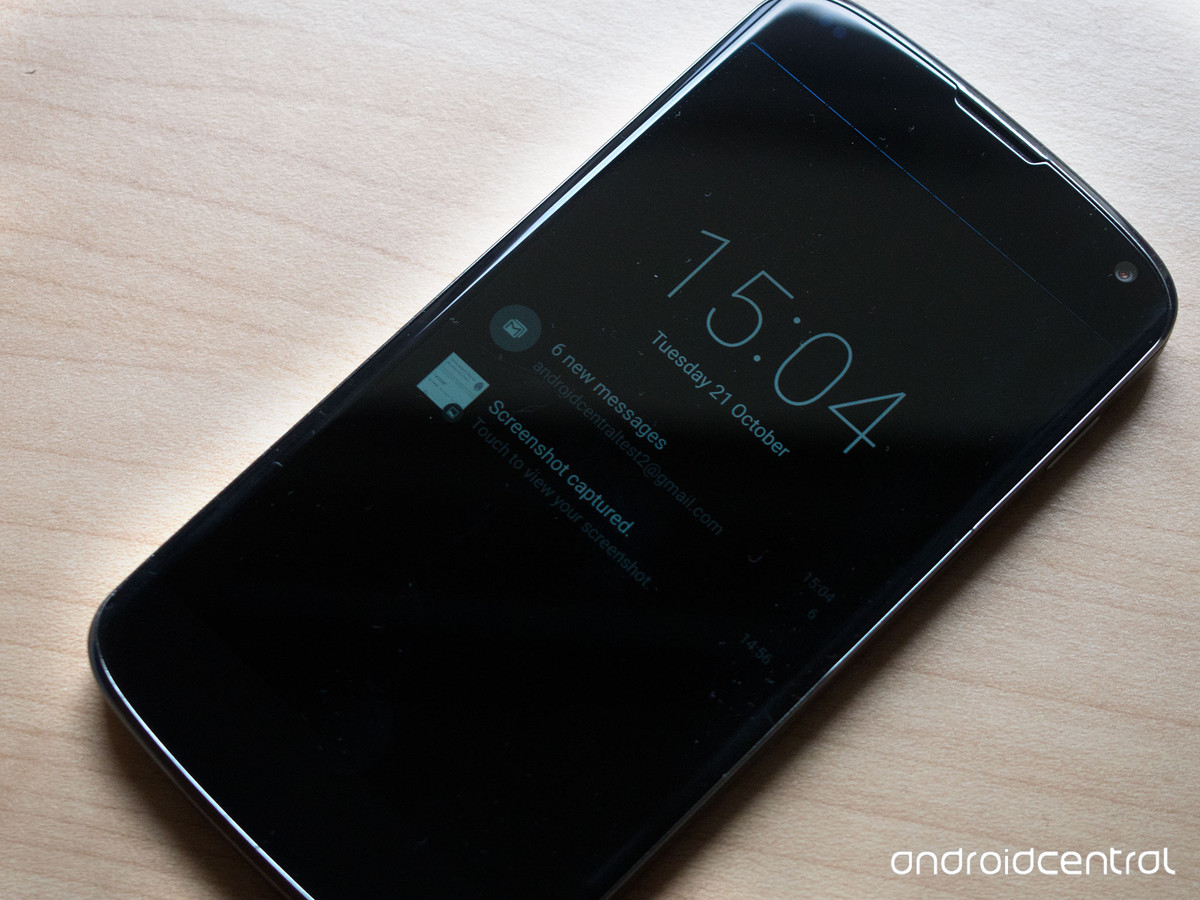smartphone: (85, 1, 1177, 899)
